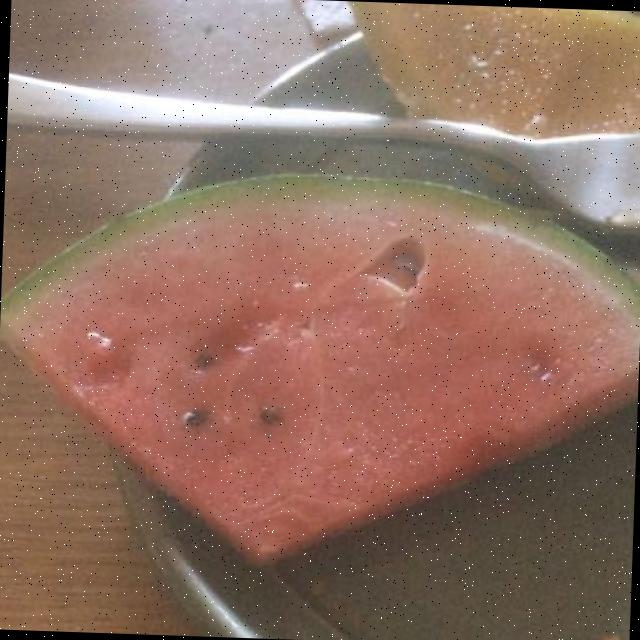watermelon-fresh: (22, 176, 632, 537)
